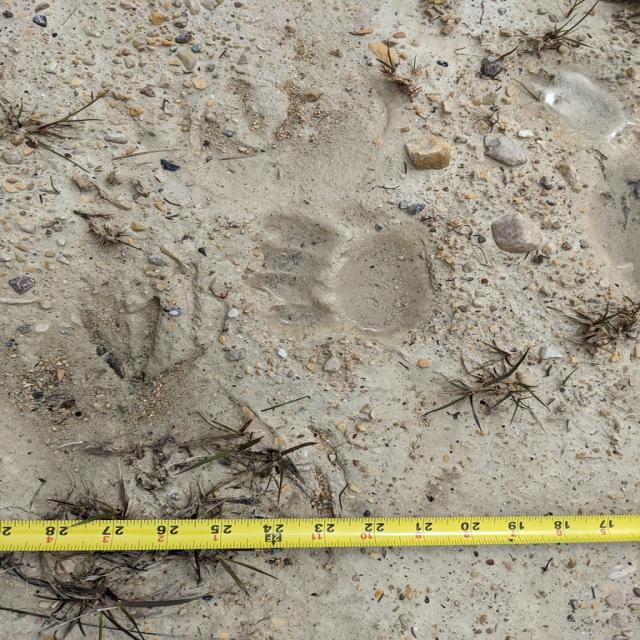bear: (252, 198, 433, 344)
